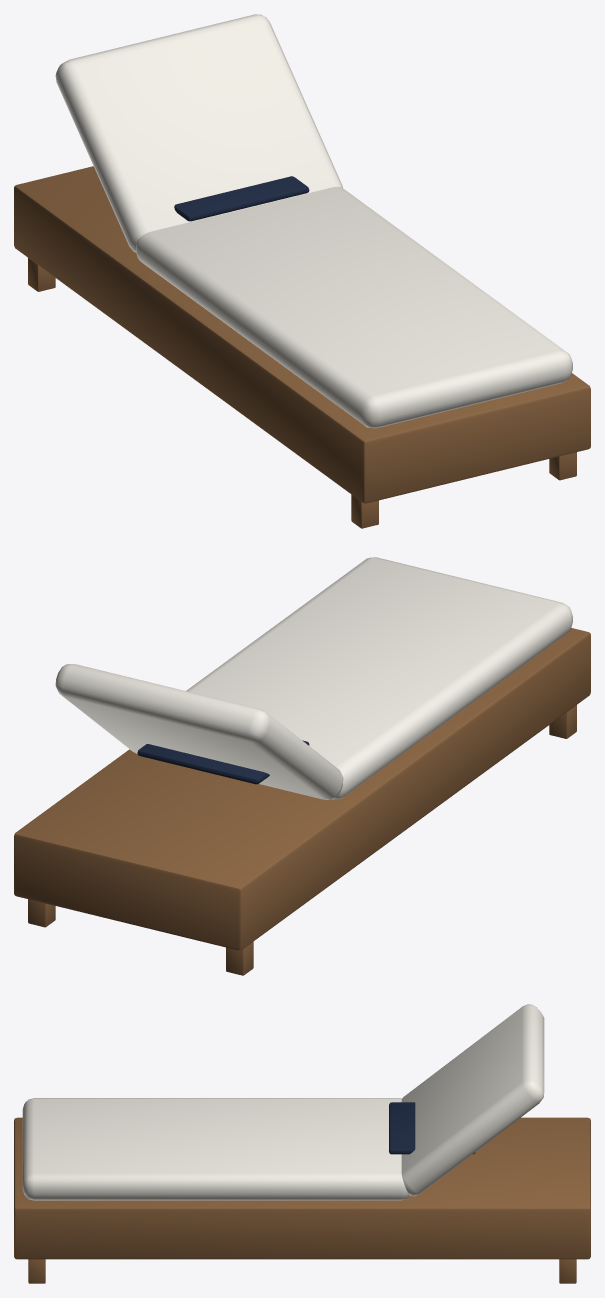
The model's file is marlin_lounger.glb.
The picture shows the model from 3 angles, top to bottom: view 1: azimuth 30°, elevation 25°; view 2: azimuth 150°, elevation 25°; view 3: azimuth 270°, elevation 25°; orthographic projection. The views are drawn at different scales.
Visible parts, largest first — view 1: marlin_lounger; view 2: marlin_lounger; view 3: marlin_lounger.
Boxes of the visible parts, left/top/right/bottom form: marlin_lounger: left=14, top=14, right=590, bottom=528; marlin_lounger: left=14, top=557, right=590, bottom=975; marlin_lounger: left=14, top=1004, right=590, bottom=1283.
Size of the model in its own units: 0.75 by 0.7582 by 2.
